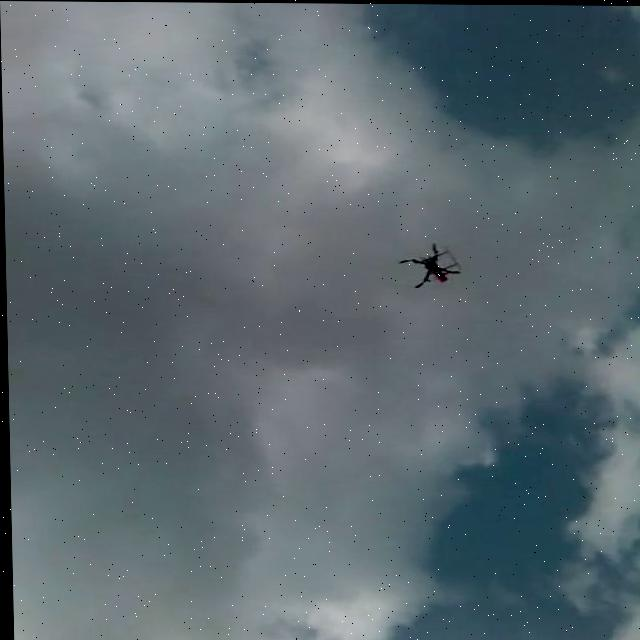drone: (393, 240, 462, 289)
